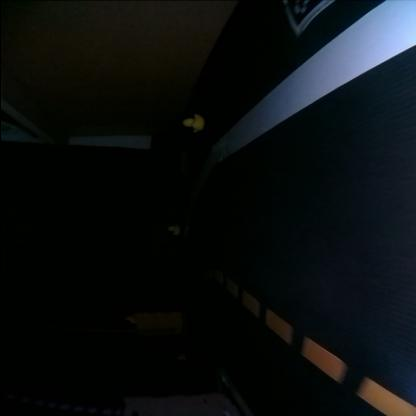Duckie: (181, 115, 202, 134), (166, 226, 178, 236), (124, 317, 132, 323)
QR code: (276, 1, 332, 37)
